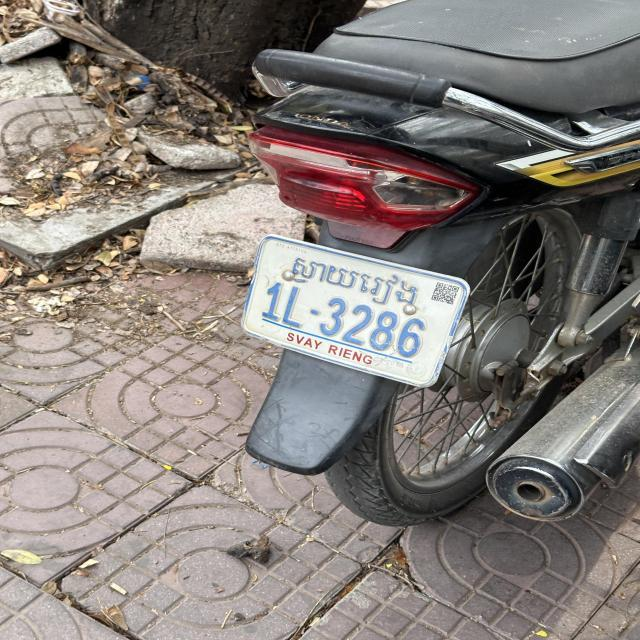Svay_Rieng: (291, 256, 419, 306)
